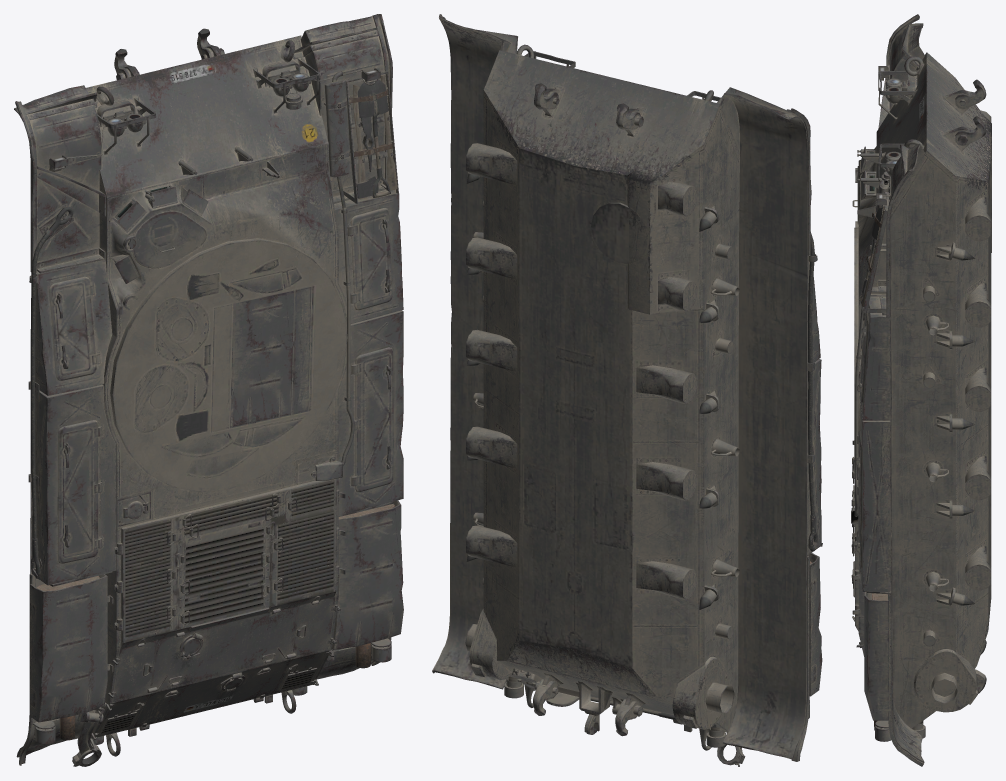
File: Hull.glb
3 renders of one model, left to right at view 1: azimuth 30°, elevation 25°; view 2: azimuth 150°, elevation 25°; view 3: azimuth 270°, elevation 25°, orthographic. The views are drawn at different scales.
Parts seen in each view (by area): view 1: set_0_group_0; view 2: set_0_group_0; view 3: set_0_group_0.
Part boxes in pixels (left/top/right/bottom): set_0_group_0: left=14, top=14, right=403, bottom=766; set_0_group_0: left=432, top=14, right=822, bottom=766; set_0_group_0: left=851, top=14, right=991, bottom=766.
Bounding box in the file's own units: 3.26 × 5.81 × 1.2.
1 material, 1 textured.
